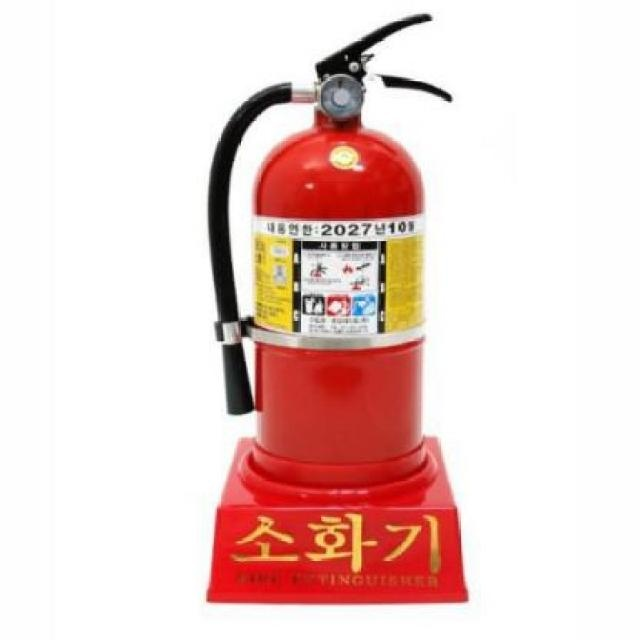fire extinguisher: (208, 13, 454, 489)
